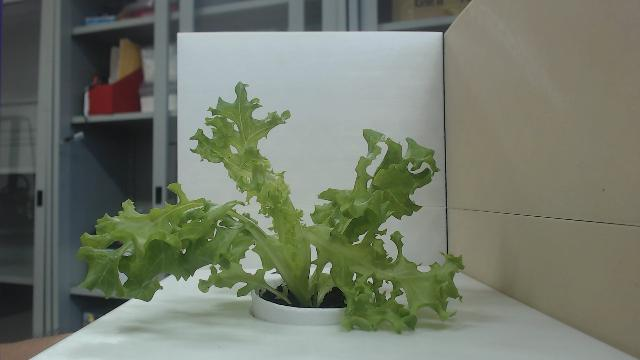Harvest Stage: (77, 82, 466, 336)
